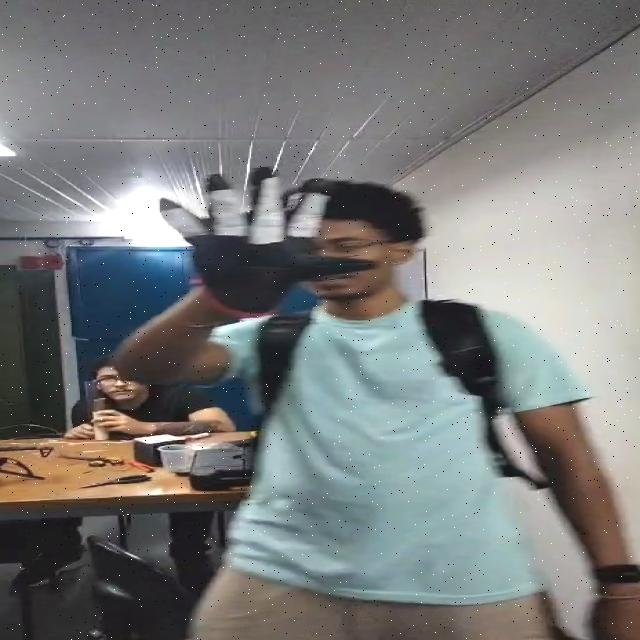Gloves: (148, 166, 378, 315)
